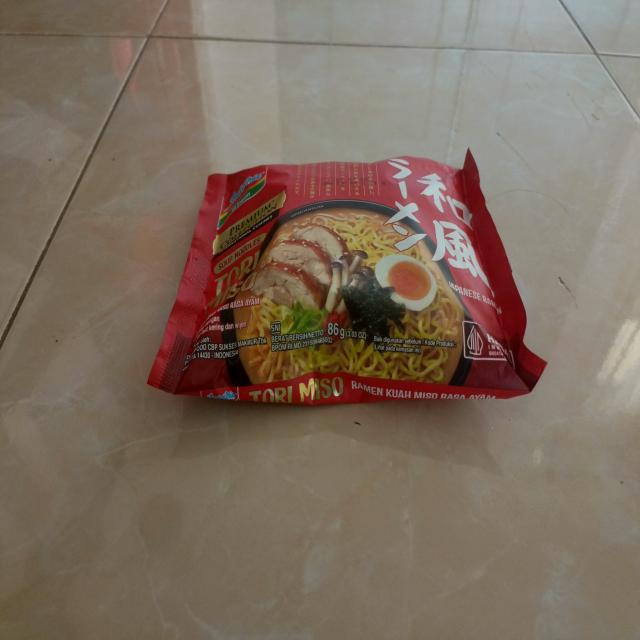indomie-tori-miso: (149, 150, 550, 407)
